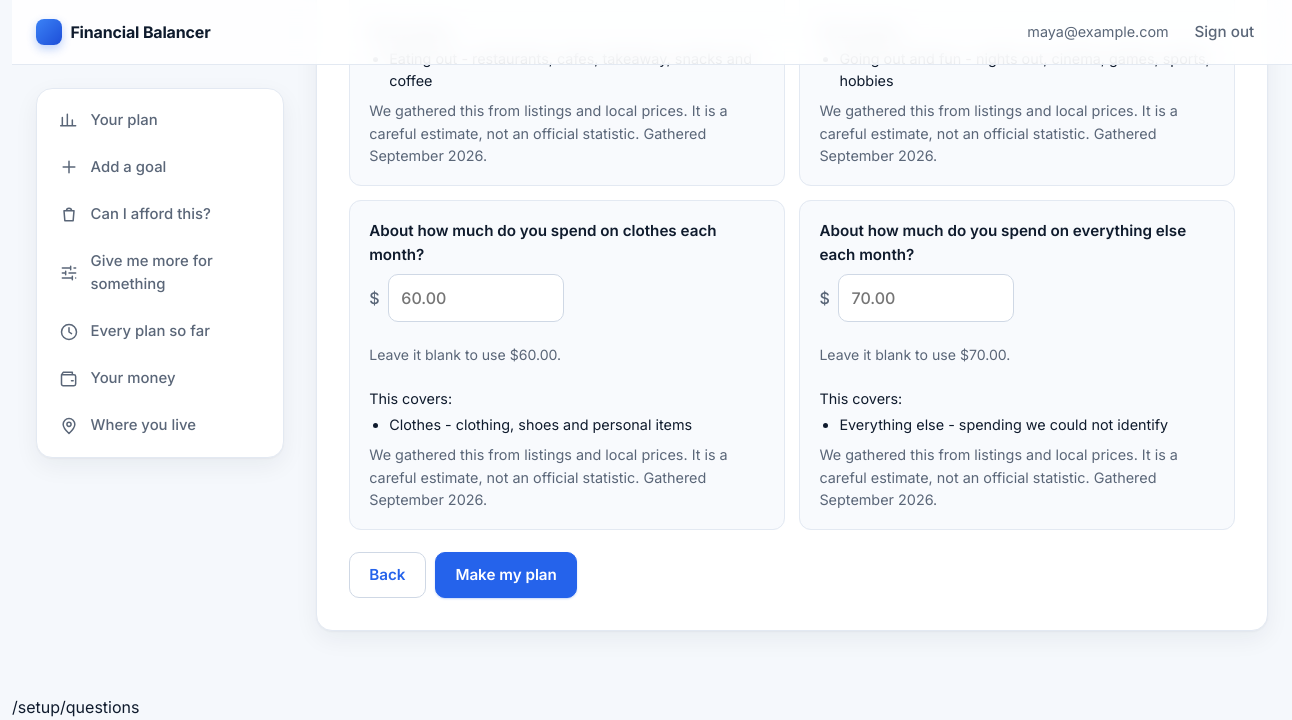
Test: the rest of setup › leaves what the server needs to the server, and shows its sentence when something is missing
(page scrolled)
Click the button "Make my plan" at (506, 575), box [435,552,577,598]
(page scrolled)
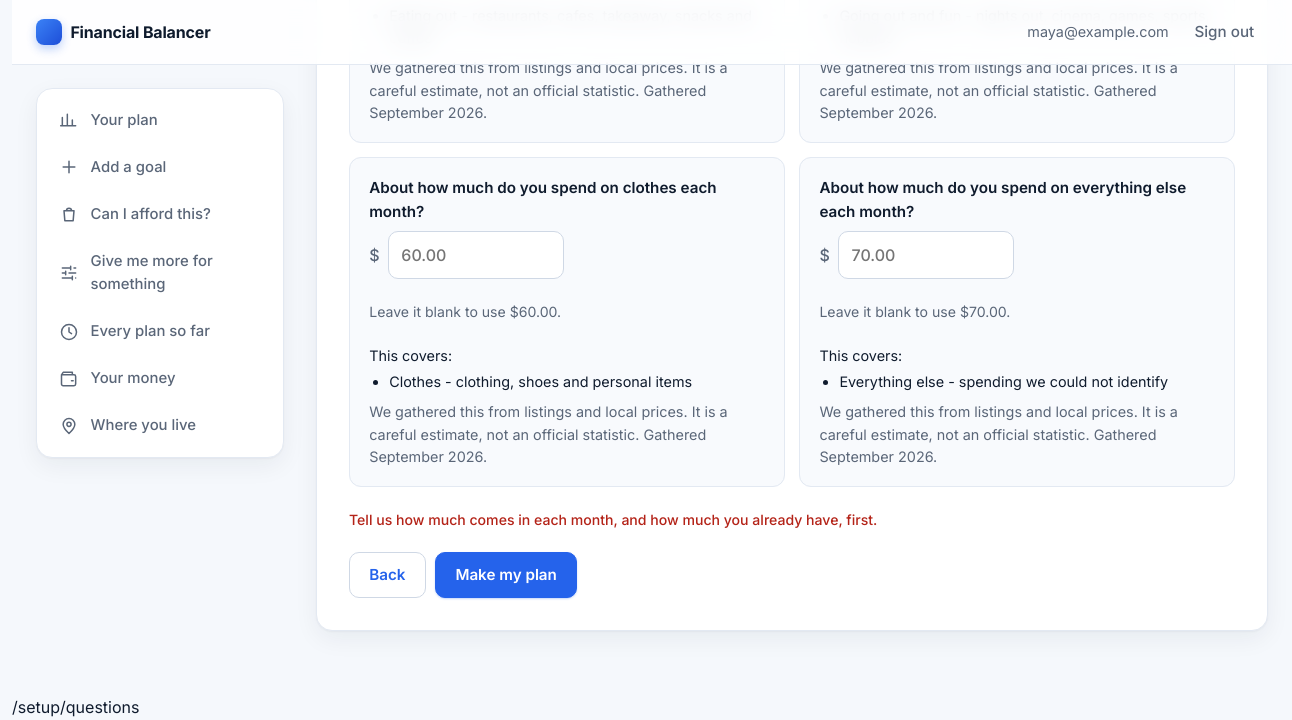
Check: the text with test id "path" reads "/setup/questions", box [12,697,139,717]
Check: the text "Tell us how much comes in each month, and how much you already have, first." is shown, box [349,510,877,528]
